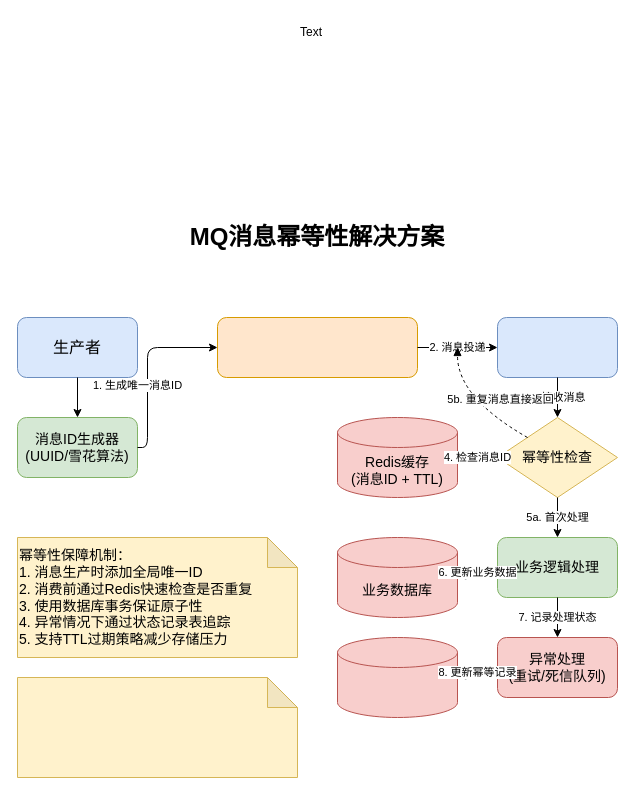
The diagram is 635 pixels wide and 795 high, and some of its shapes have lost their labels. Here are the shapes that lost their labels. From the top down, the centre of each, then its label:
(x=317, y=347): 消息队列 (Kafka/RabbitMQ)
(x=557, y=347): 消费者
(x=397, y=677): 幂等记录表 (消息ID, 状态, 时间戳)
(x=157, y=727): 性能优化策略： 1. Redis集群提高查询性能 2. 批量消息处理 3. 异步更新幂等状态 4. 定期清理过期记录
